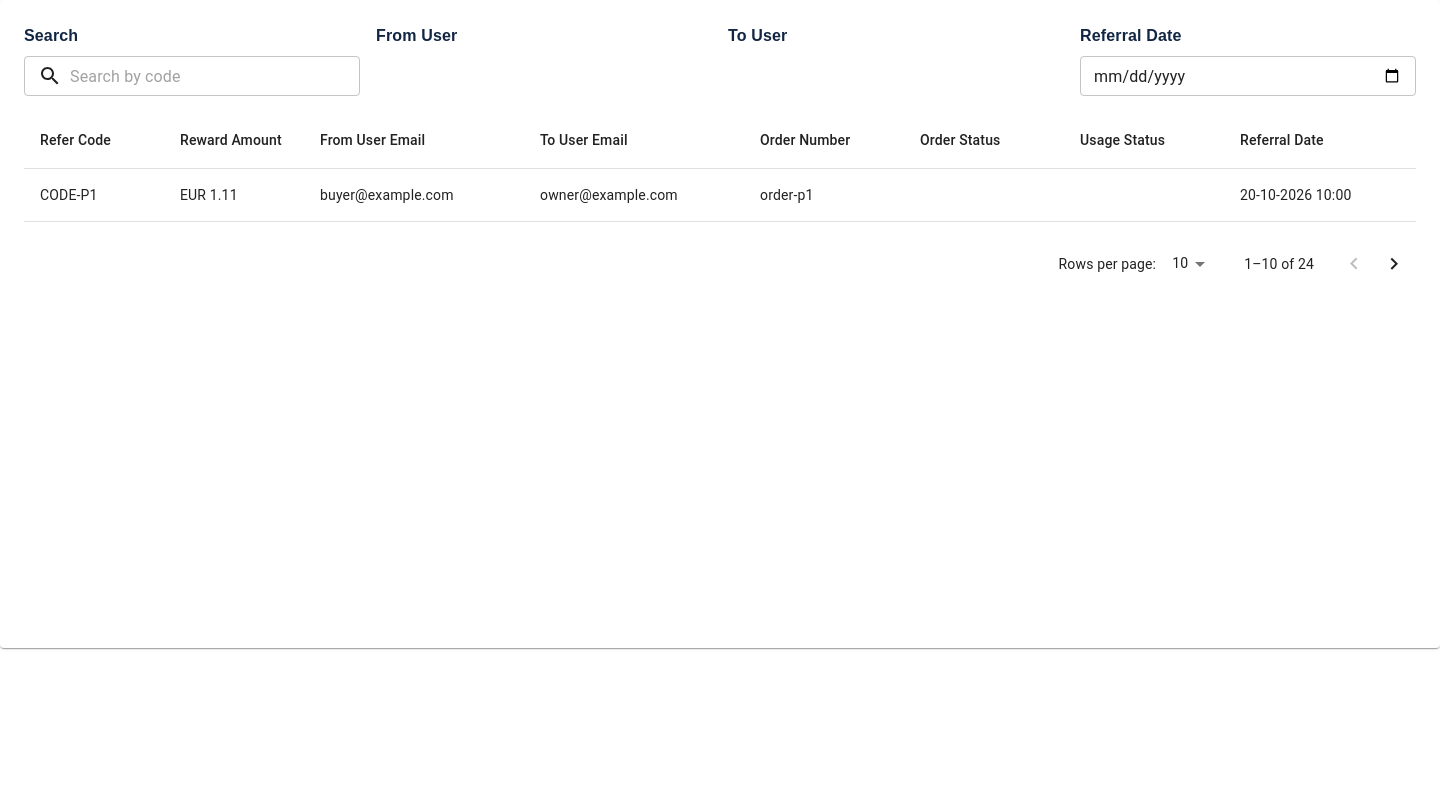
Test case: Referrals page › Back after a page change shows the earlier page again (TEOS-287)
Later steps or results of the test are not shown.
Expected: the text "CODE-P1" is shown, [24,168,164,222]
# a page change by the user pushes a new entry
Click the button named "next page" at (1394, 264), box [1374,244,1414,284]
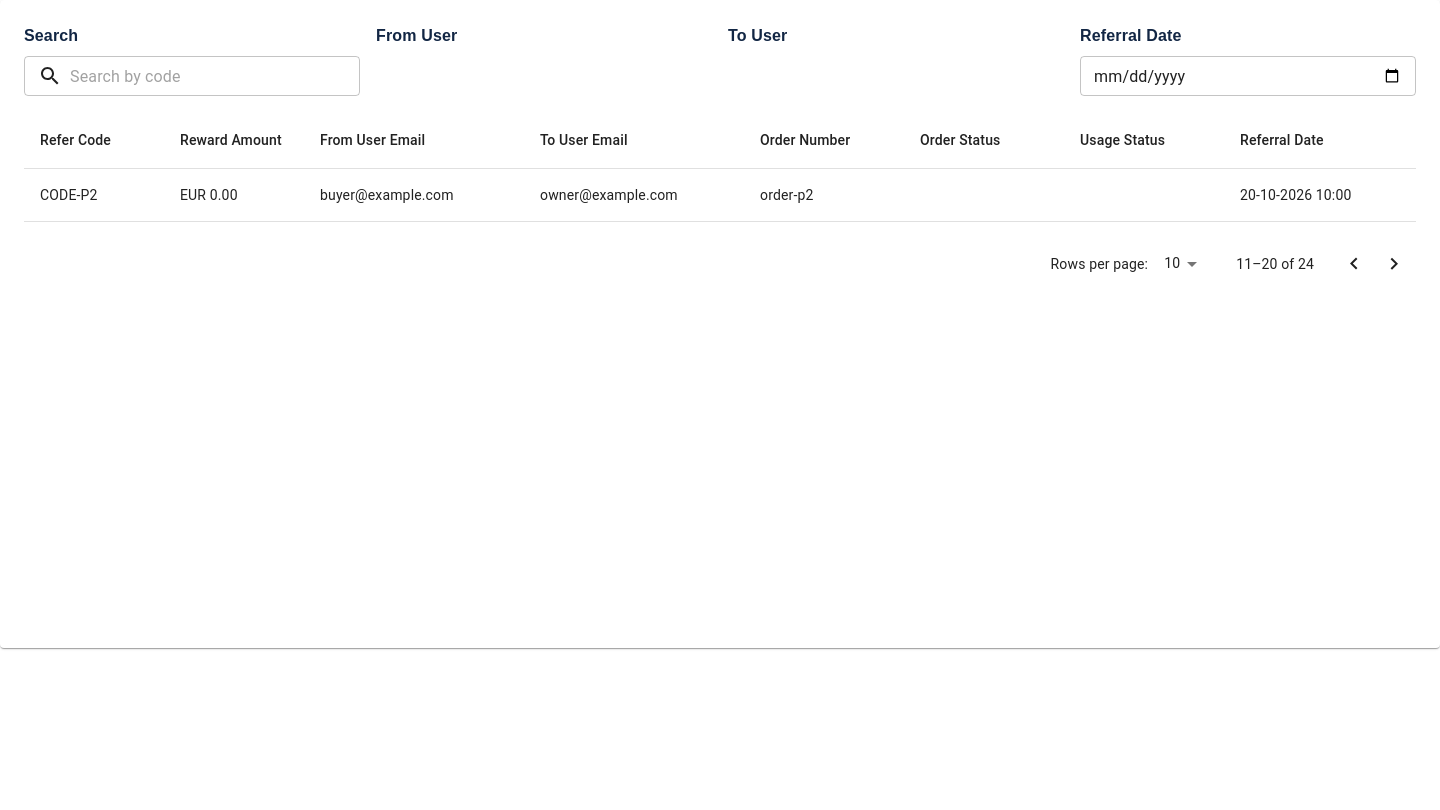
Now the text "CODE-P2" is shown, box [24,168,164,222]
